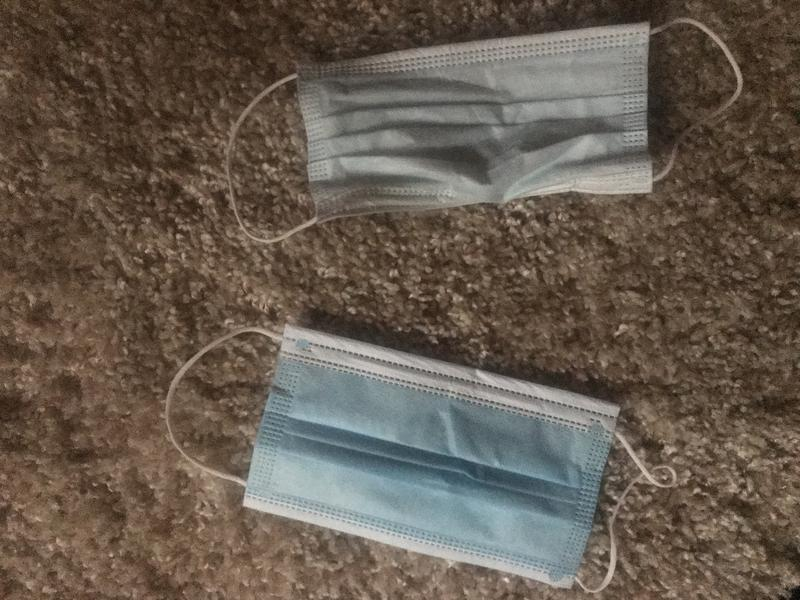medical_mask: (166, 323, 674, 591), (225, 15, 743, 242)
